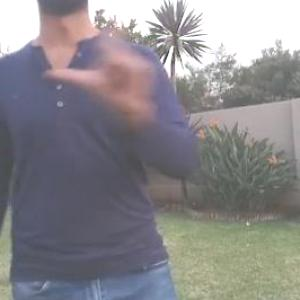land_hand: (40, 0, 162, 107)
